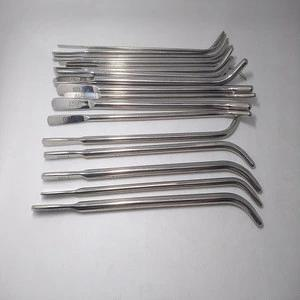Urethral Dilators: (23, 187, 271, 240), (38, 134, 265, 178), (38, 156, 267, 198), (35, 172, 273, 210), (54, 57, 252, 98), (44, 100, 265, 129)
